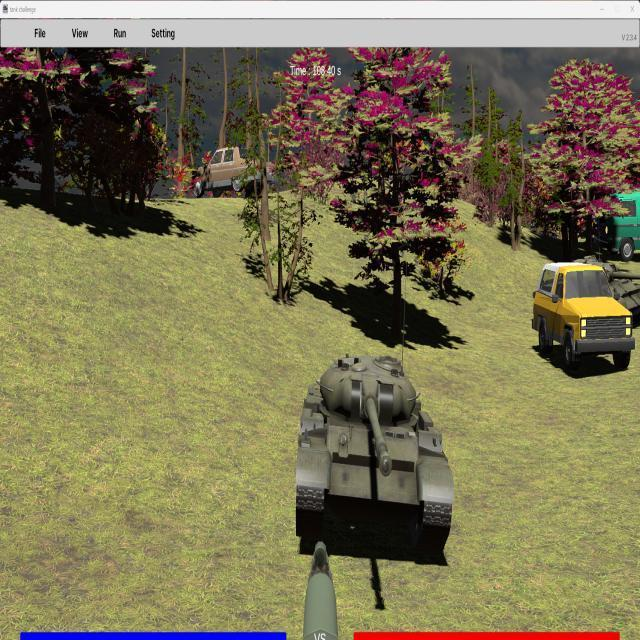Tank: (295, 354, 454, 555), (566, 260, 640, 327)
car: (532, 262, 635, 371), (190, 147, 262, 197), (591, 189, 640, 261)
